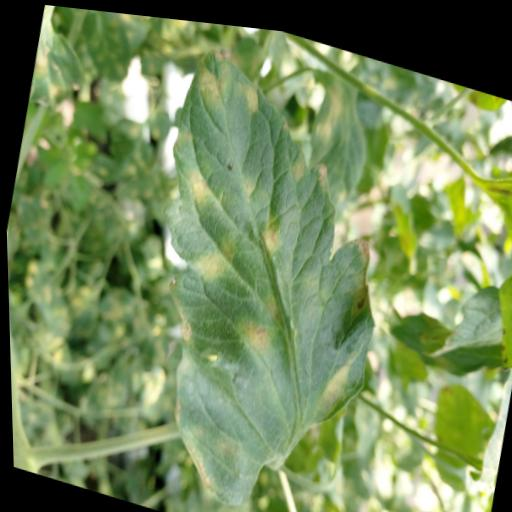Leaf Mold: (104, 29, 422, 512)
